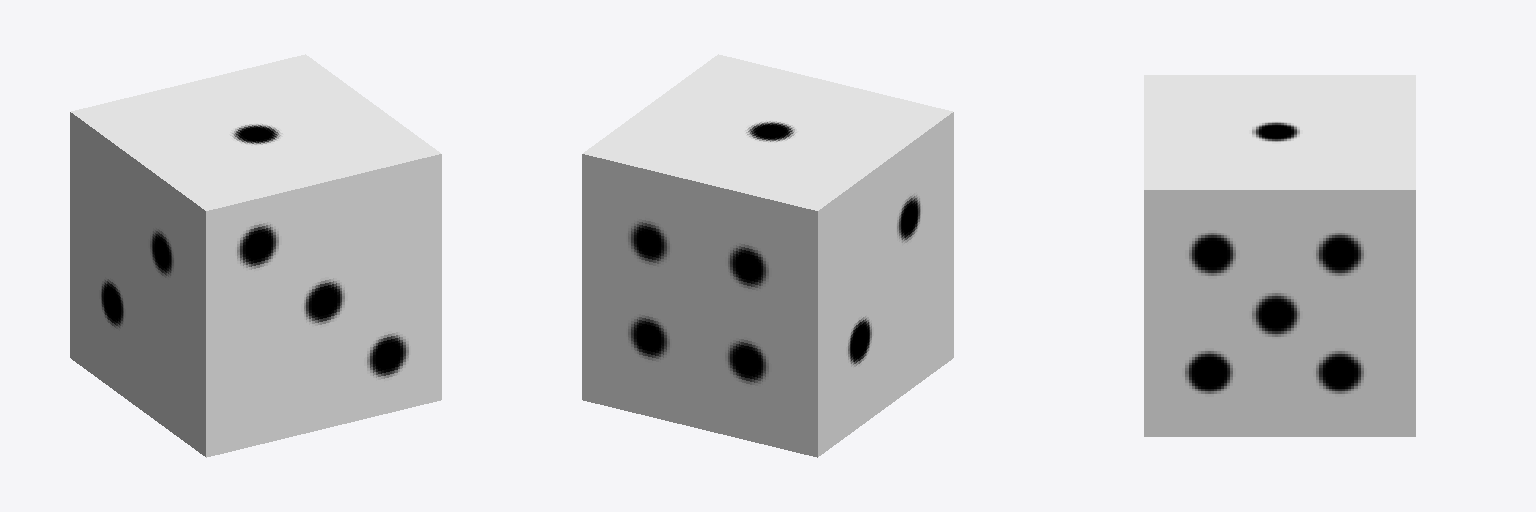
3 views of the same model, side by side, from view 1: azimuth 30°, elevation 25°; view 2: azimuth 150°, elevation 25°; view 3: azimuth 270°, elevation 25° (orthographic).
Bounding box in the file's own units: 2 × 2 × 2.
1 materials, 1 textured.